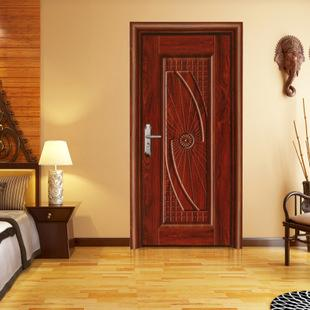door: (140, 32, 232, 247)
